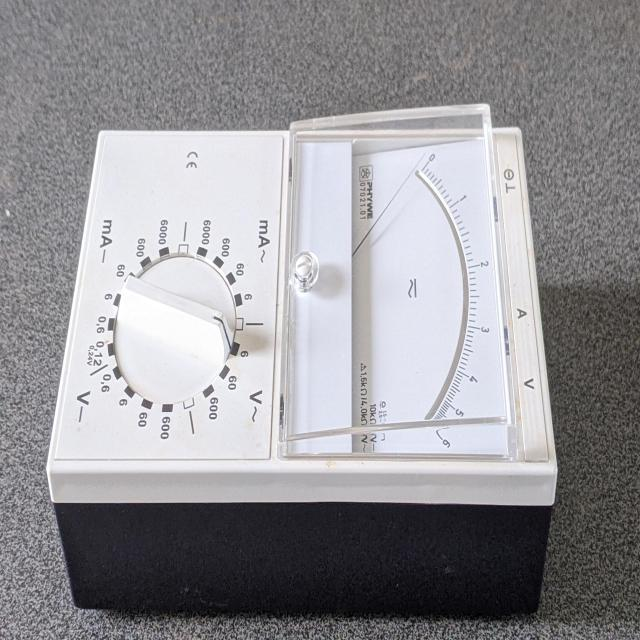Analog Multimeter: (33, 103, 565, 633)
